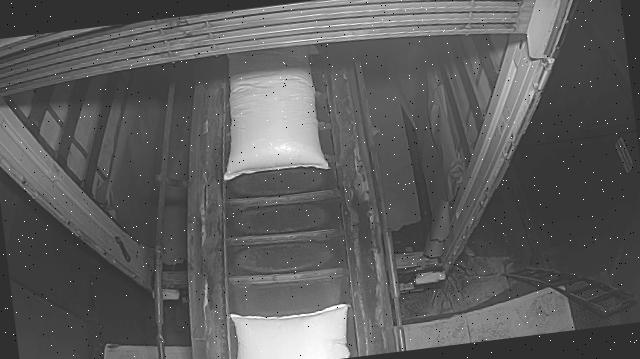bag: (211, 43, 330, 181), (228, 298, 355, 359)
